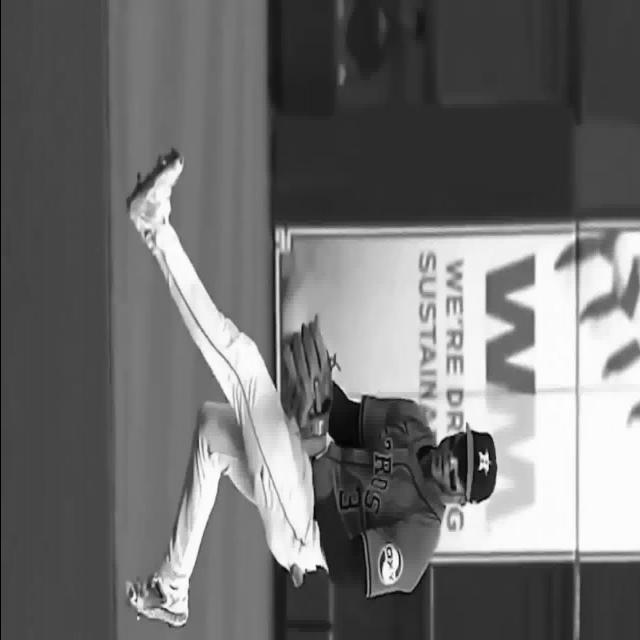baseball_glove: (279, 313, 339, 457)
shoe: (126, 148, 184, 232), (124, 573, 188, 627)
